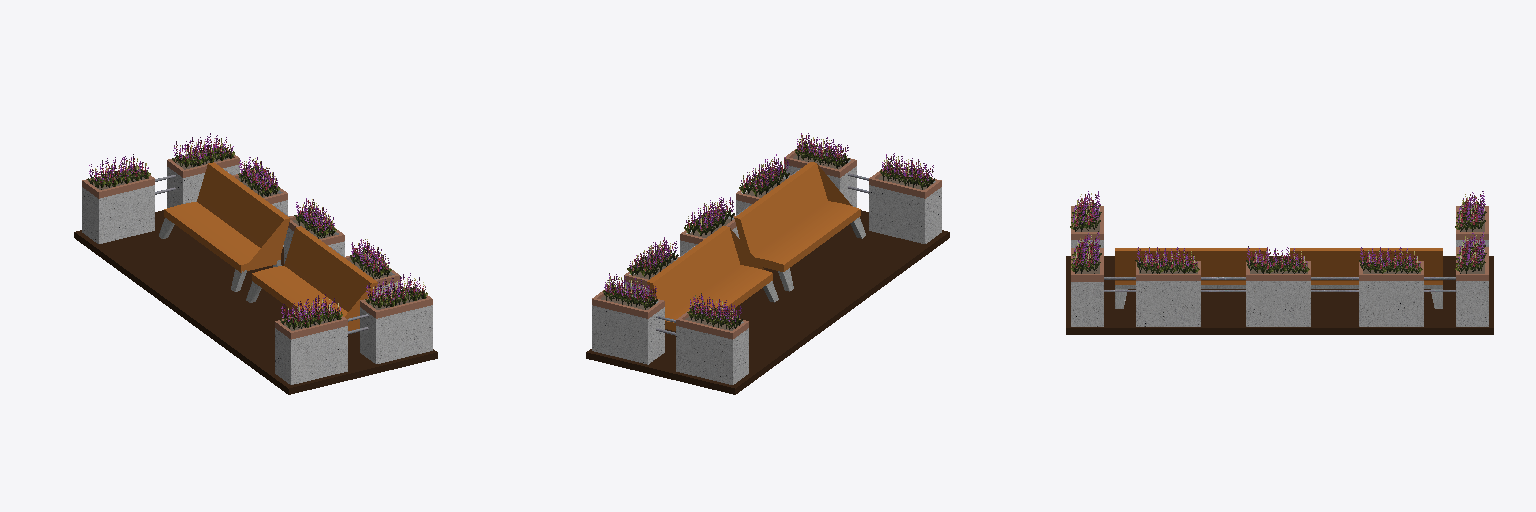
3 views of the same model, side by side, from view 1: azimuth 30°, elevation 25°; view 2: azimuth 150°, elevation 25°; view 3: azimuth 270°, elevation 25° (orthographic).
Parts seen in each view (by area): view 1: Mesh206 Model, Mesh1 Bench1 Model, Mesh147 Bench2 Model, Mesh30 Planter_HighLOD1 Model, Mesh146 Planter_HighLOD5 Model, Mesh59 Planter_HighLOD2 Model, Mesh205 Planter_HighLOD7 Model, Mesh88 Planter_HighLOD3 Model; view 2: Mesh206 Model, Mesh147 Bench2 Model, Mesh1 Bench1 Model, Mesh30 Planter_HighLOD1 Model, Mesh146 Planter_HighLOD5 Model, Mesh205 Planter_HighLOD7 Model, Mesh59 Planter_HighLOD2 Model, Mesh88 Planter_HighLOD3 Model; view 3: Mesh206 Model, Mesh88 Planter_HighLOD3 Model, Mesh117 Planter_HighLOD4 Model, Mesh176 Planter_HighLOD6 Model, Mesh1 Bench1 Model, Mesh147 Bench2 Model, Mesh205 Planter_HighLOD7 Model, Mesh59 Planter_HighLOD2 Model, Mesh30 Planter_HighLOD1 Model, Mesh146 Planter_HighLOD5 Model.
Boxes of the visible parts, box(x1,y1,x2,y2) form: Mesh206 Model: box(74, 210, 437, 394); Mesh1 Bench1 Model: box(159, 162, 289, 291); Mesh147 Bench2 Model: box(246, 226, 377, 330); Mesh30 Planter_HighLOD1 Model: box(275, 308, 347, 384); Mesh146 Planter_HighLOD5 Model: box(82, 167, 154, 243); Mesh59 Planter_HighLOD2 Model: box(360, 288, 432, 363); Mesh205 Planter_HighLOD7 Model: box(167, 148, 239, 207); Mesh88 Planter_HighLOD3 Model: box(284, 215, 344, 263); Mesh206 Model: box(586, 210, 949, 394); Mesh147 Bench2 Model: box(734, 162, 865, 291); Mesh1 Bench1 Model: box(647, 226, 778, 330); Mesh30 Planter_HighLOD1 Model: box(869, 169, 941, 243); Mesh146 Planter_HighLOD5 Model: box(676, 310, 748, 384); Mesh205 Planter_HighLOD7 Model: box(592, 287, 664, 364); Mesh59 Planter_HighLOD2 Model: box(784, 148, 856, 207); Mesh88 Planter_HighLOD3 Model: box(680, 215, 739, 255); Mesh206 Model: box(1066, 256, 1493, 334); Mesh88 Planter_HighLOD3 Model: box(1246, 261, 1310, 326); Mesh117 Planter_HighLOD4 Model: box(1359, 261, 1423, 326); Mesh176 Planter_HighLOD6 Model: box(1136, 261, 1200, 326); Mesh1 Bench1 Model: box(1290, 248, 1442, 308); Mesh147 Bench2 Model: box(1115, 248, 1267, 308); Mesh205 Planter_HighLOD7 Model: box(1456, 247, 1488, 326); Mesh59 Planter_HighLOD2 Model: box(1071, 248, 1103, 326); Mesh30 Planter_HighLOD1 Model: box(1071, 206, 1103, 247); Mesh146 Planter_HighLOD5 Model: box(1456, 206, 1488, 246).
Bounding box in the file's own units: 2.45 × 1.34 × 6.1.
Materials: 9 (4 with a texture image).